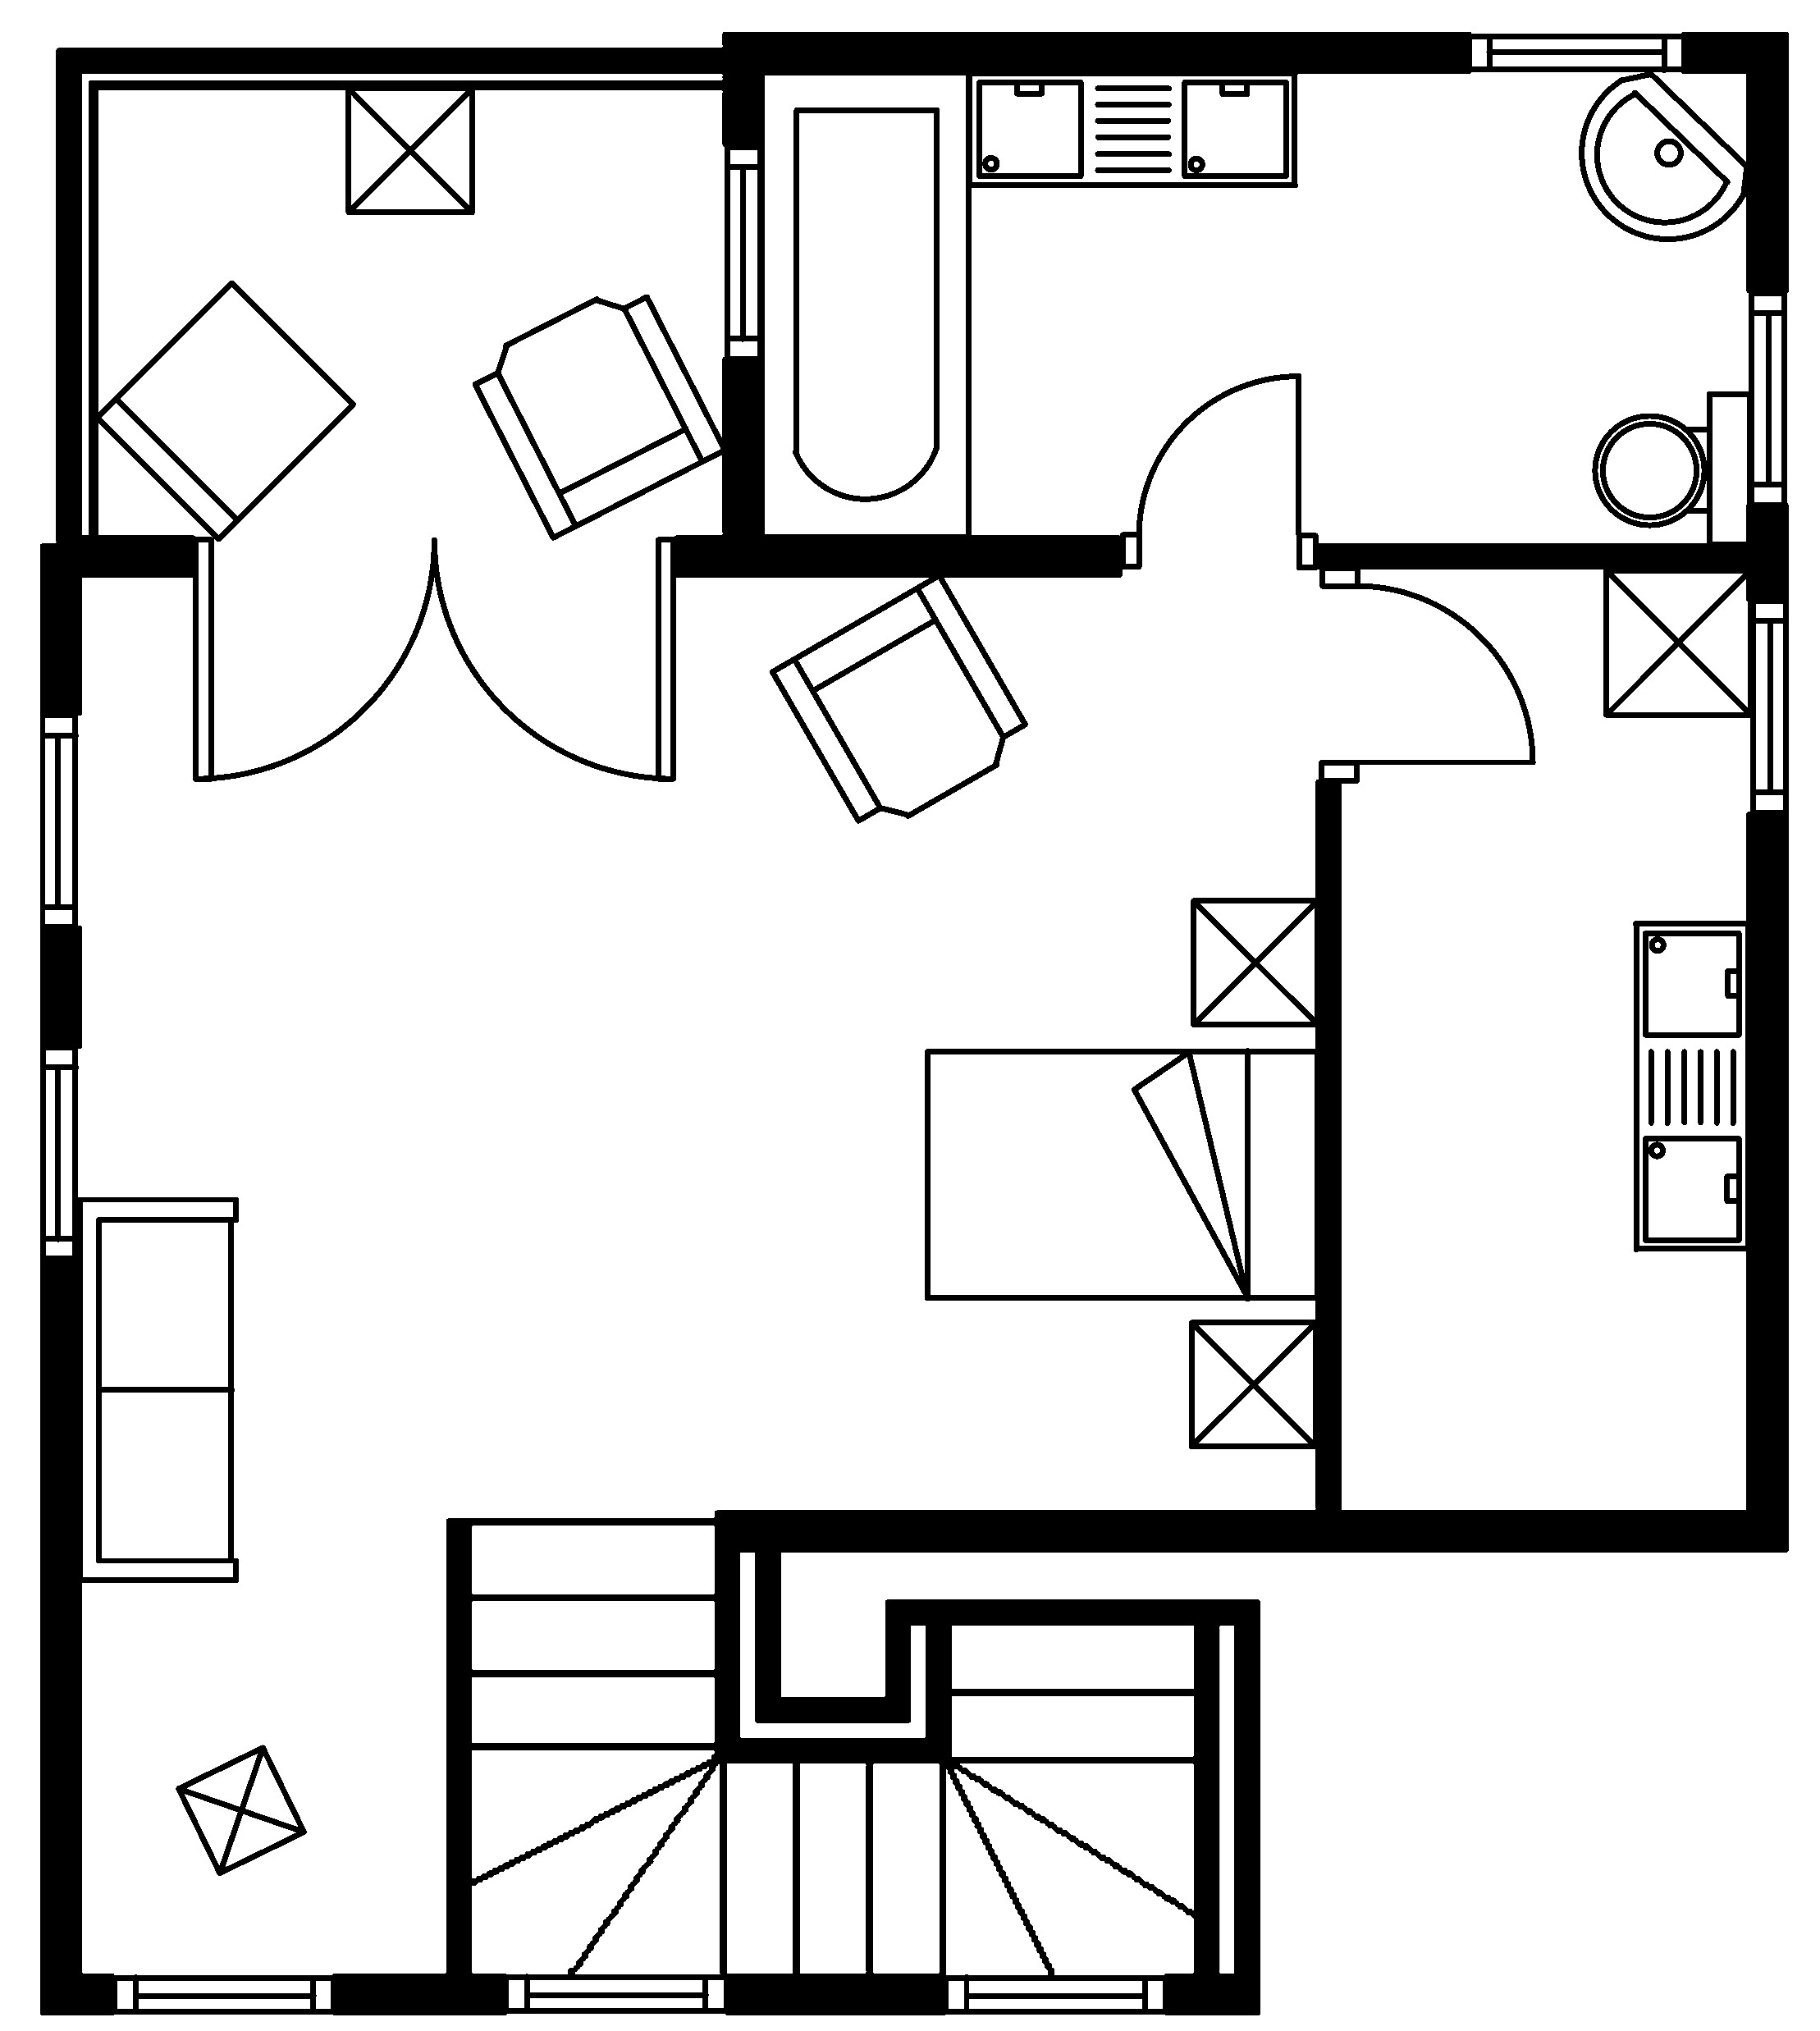armchair: (768, 571, 1028, 824), (471, 292, 727, 541)
bed: (922, 1047, 1321, 1302)
coffee_table: (1602, 566, 1753, 719), (174, 1743, 307, 1876), (1186, 1318, 1319, 1449), (1189, 896, 1321, 1028), (344, 84, 474, 214)
large_sink: (1592, 388, 1753, 548)
large_sofa: (76, 1195, 239, 1583)
small_sink: (1578, 70, 1750, 241)
small_sofa: (93, 278, 357, 543)
tub: (757, 69, 971, 539)
twin_sink: (1630, 919, 1751, 1253), (964, 69, 1298, 188)
